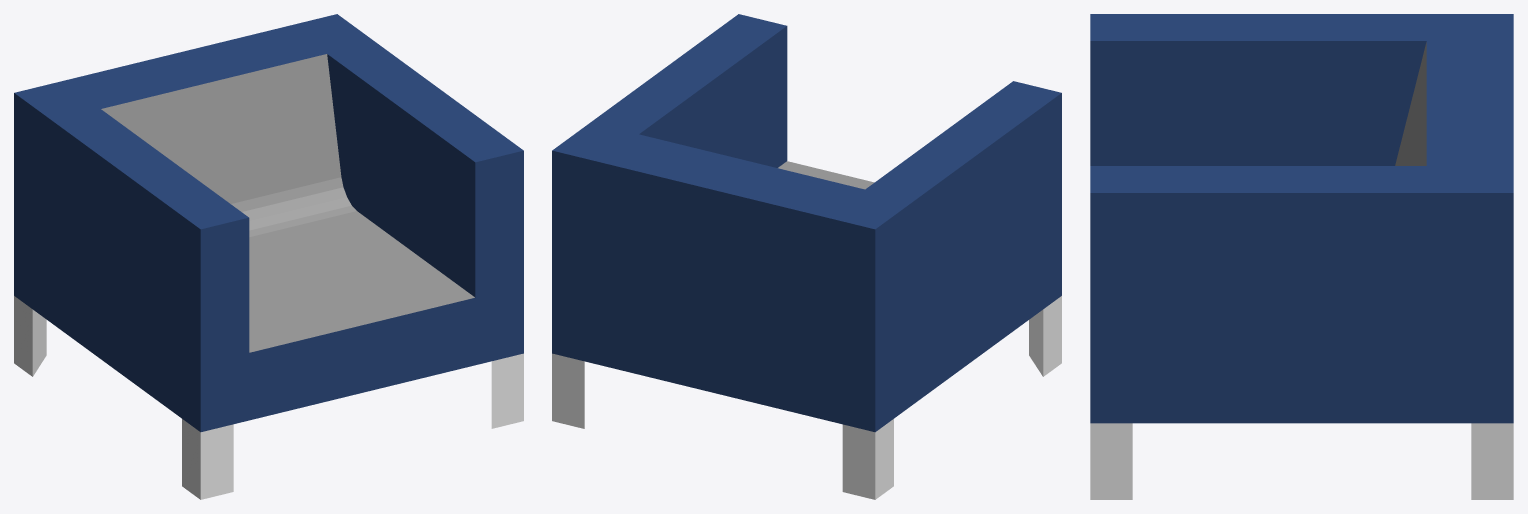
The model's file is Chair_Lounge.fbx.
3 renders of one model, left to right at view 1: azimuth 30°, elevation 25°; view 2: azimuth 150°, elevation 25°; view 3: azimuth 270°, elevation 25°, orthographic. The views are drawn at different scales.
Parts seen in each view (by area): view 1: Cube; view 2: Cube; view 3: Cube.
Part boxes in pixels (x1,y1,x2,y2): Cube: [14, 14, 523, 499]; Cube: [552, 14, 1061, 499]; Cube: [1090, 14, 1513, 499].
Size of the model in its own units: 100 by 80 by 100.
